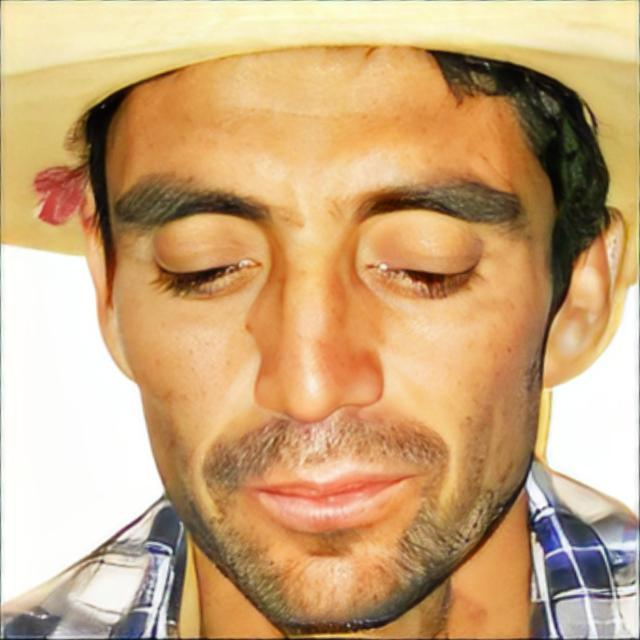sad: (105, 54, 556, 631)
